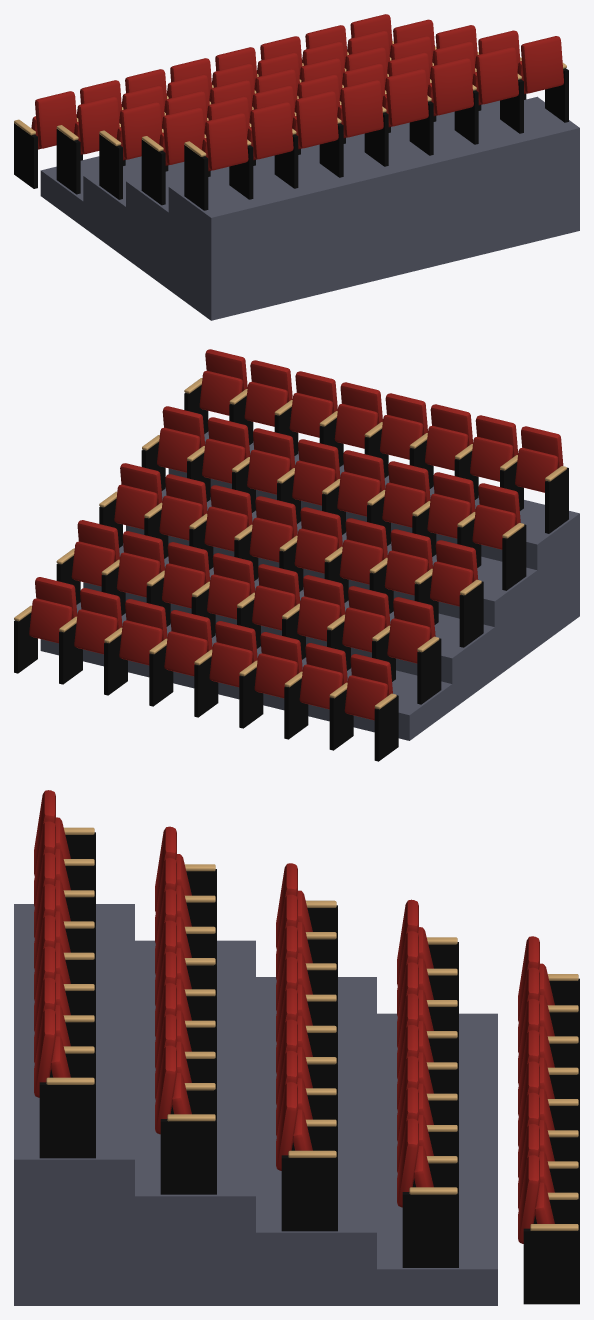
The model's file is venue.seat.block_8x5.glb.
3 renders of one model, top to bottom at view 1: azimuth 30°, elevation 25°; view 2: azimuth 150°, elevation 25°; view 3: azimuth 270°, elevation 25°, orthographic. The views are drawn at different scales.
Parts seen in each view (by area): view 1: main__carpet, main__fabric_red, main__plastic_black, main__glulam; view 2: main__fabric_red, main__plastic_black, main__carpet, main__glulam; view 3: main__carpet, main__plastic_black, main__fabric_red, main__glulam.
Boxes of the visible parts, <box> form: main__carpet: <box>40,96,579,320</box>; main__fabric_red: <box>31,14,563,171</box>; main__plastic_black: <box>14,68,568,210</box>; main__glulam: <box>14,41,566,156</box>; main__fabric_red: <box>29,349,563,720</box>; main__plastic_black: <box>14,385,568,761</box>; main__carpet: <box>40,431,579,740</box>; main__glulam: <box>14,378,566,709</box>; main__carpet: <box>14,904,497,1305</box>; main__plastic_black: <box>39,832,579,1304</box>; main__fabric_red: <box>34,790,554,1243</box>; main__glulam: <box>46,827,578,1230</box>.
Size of the model in its own units: 4.5 by 2.19 by 4.21.
